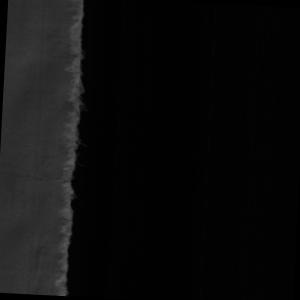Damage: (37, 1, 95, 297)
